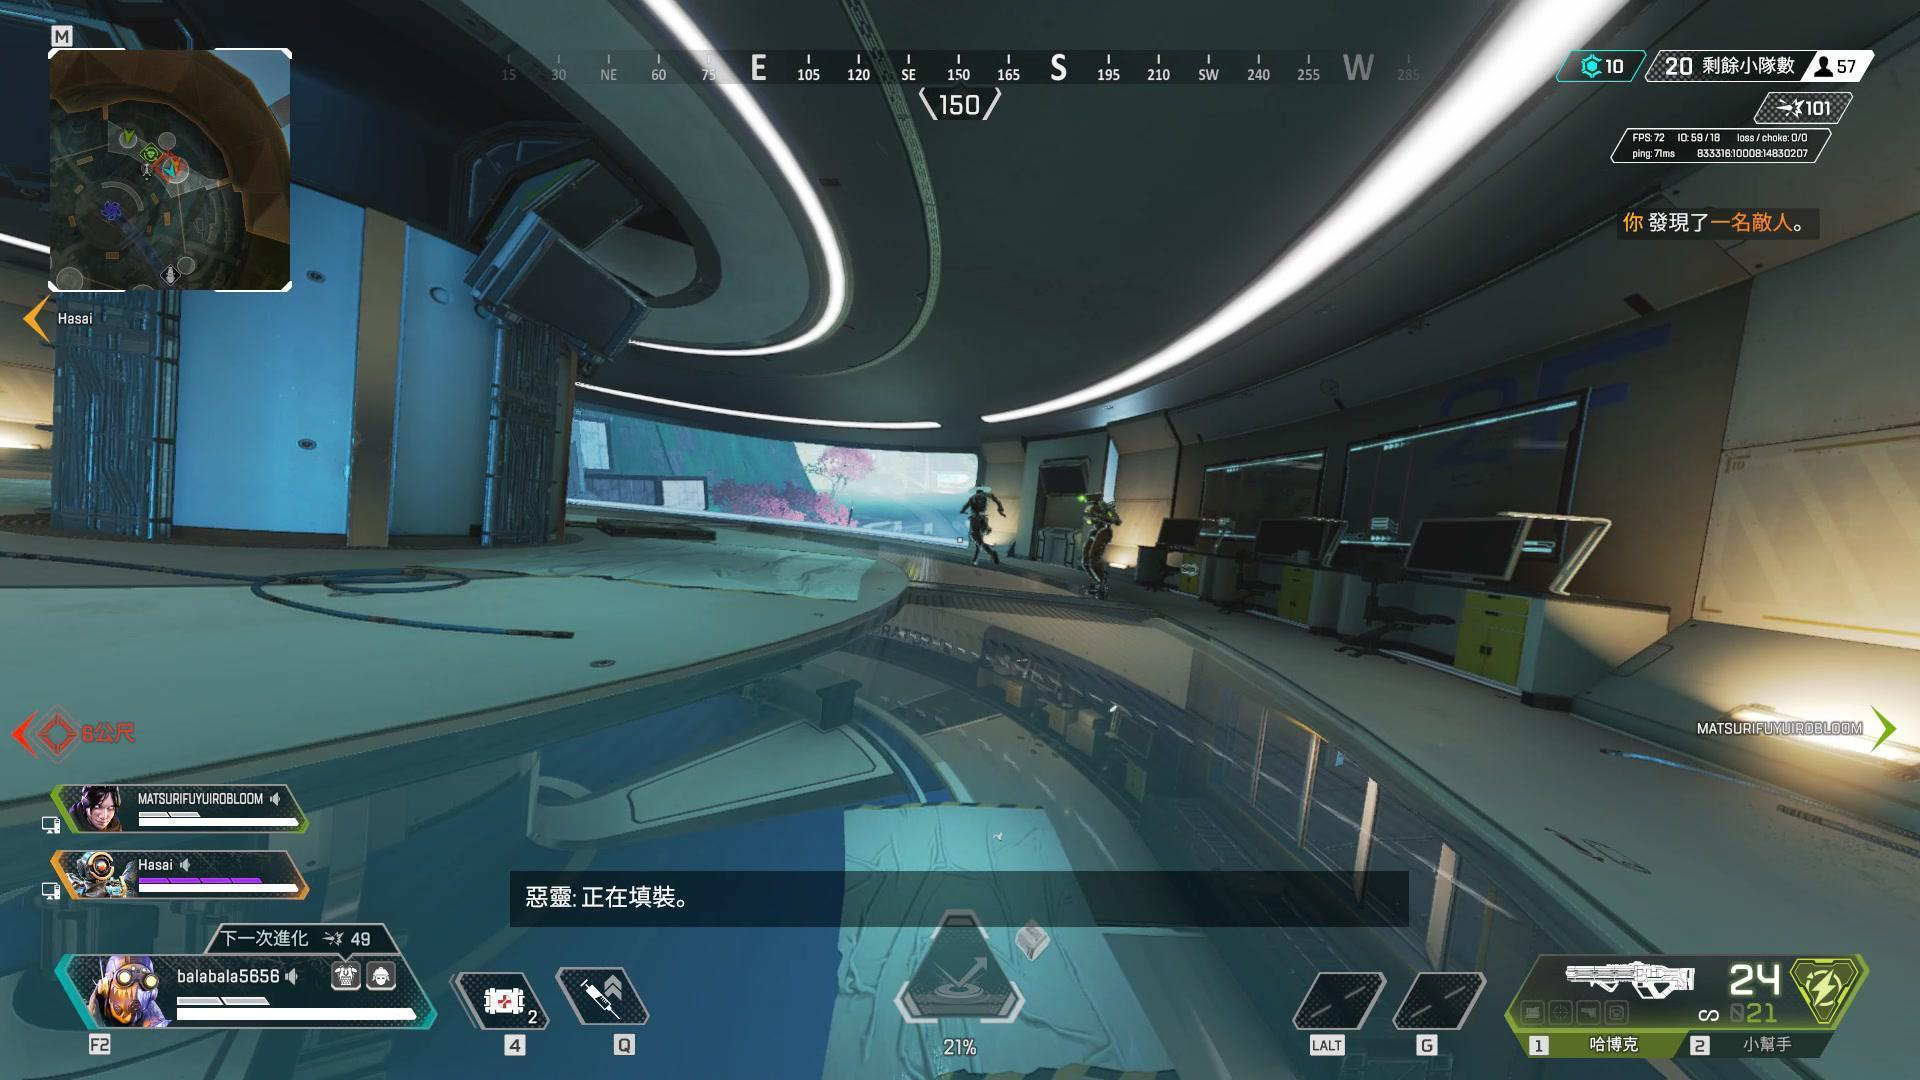avatar: (1075, 489, 1122, 605), (958, 481, 1008, 570)
